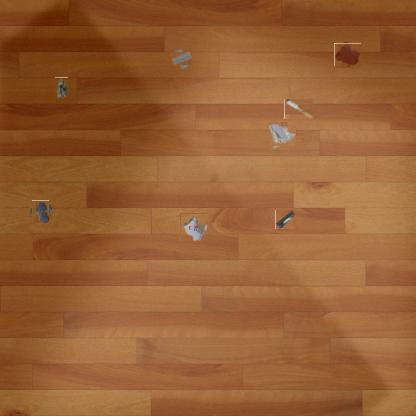dirty: (180, 213, 208, 241), (269, 121, 295, 147), (284, 99, 313, 119), (275, 209, 296, 230), (172, 49, 190, 67), (54, 77, 68, 98)
liquid: (335, 42, 360, 67), (30, 202, 51, 222)
